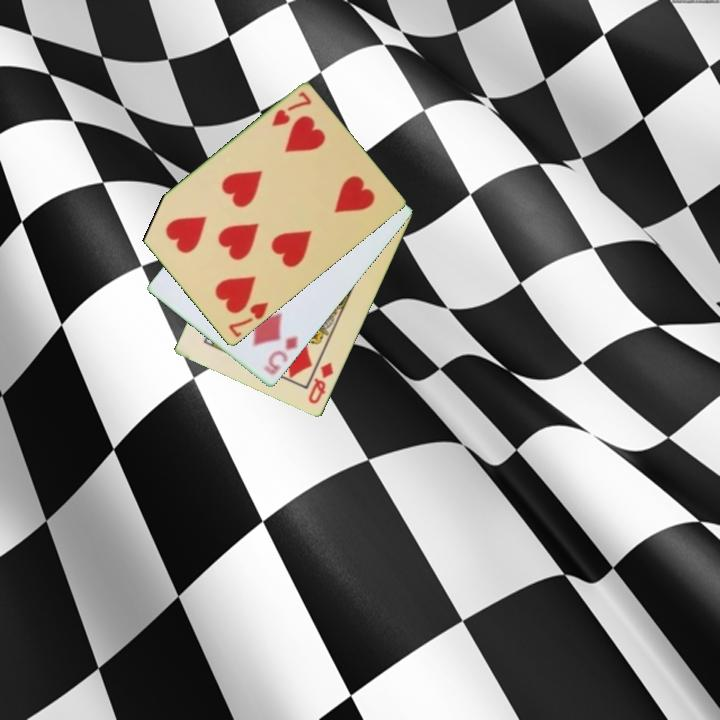5d: (260, 333, 301, 378)
7h: (225, 299, 271, 341), (268, 88, 314, 130)
Qd: (304, 359, 337, 407)
